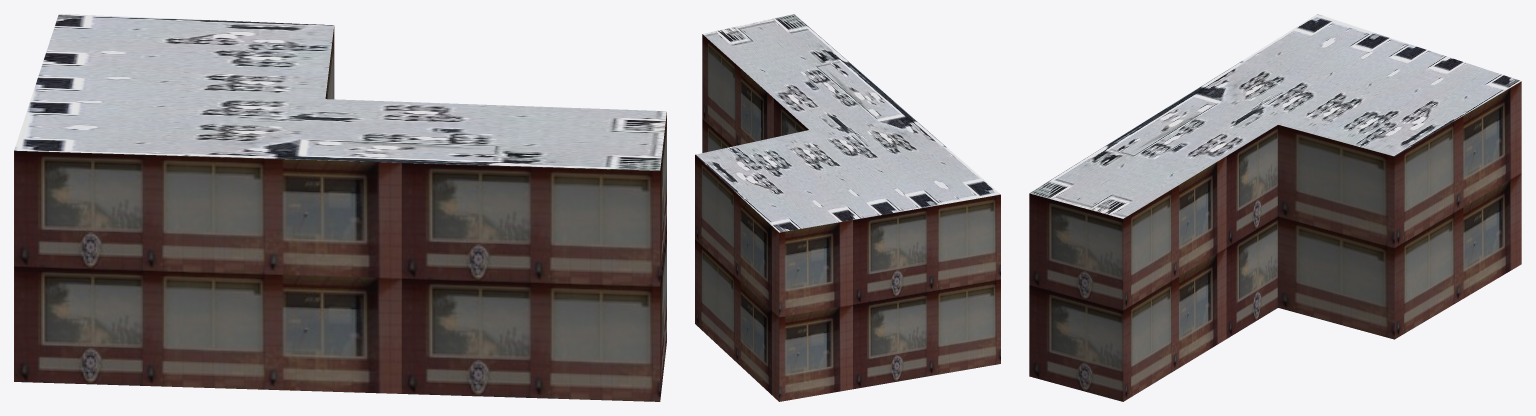
File: ResTex__5041.fbx
3 views of the same model, side by side, from view 1: azimuth 30°, elevation 25°; view 2: azimuth 150°, elevation 25°; view 3: azimuth 270°, elevation 25° (orthographic). The views are drawn at different scales.
Parts seen in each view (by area): view 1: CityEngineMaterial_13_m, CityEngineMaterial_4_m; view 2: CityEngineMaterial_13_m, CityEngineMaterial_4_m; view 3: CityEngineMaterial_13_m, CityEngineMaterial_4_m.
Part boxes in pixels (x1=…): CityEngineMaterial_13_m: x1=14, y1=26, x2=666, y2=401; CityEngineMaterial_4_m: x1=14, y1=14, x2=666, y2=170; CityEngineMaterial_13_m: x1=695, y1=34, x2=1000, y2=401; CityEngineMaterial_4_m: x1=695, y1=14, x2=1000, y2=232; CityEngineMaterial_13_m: x1=1029, y1=81, x2=1521, y2=401; CityEngineMaterial_4_m: x1=1029, y1=14, x2=1521, y2=218.
Bounding box in the file's own units: 14.4 × 6 × 14.63.
Materials: 2 (2 with a texture image).
